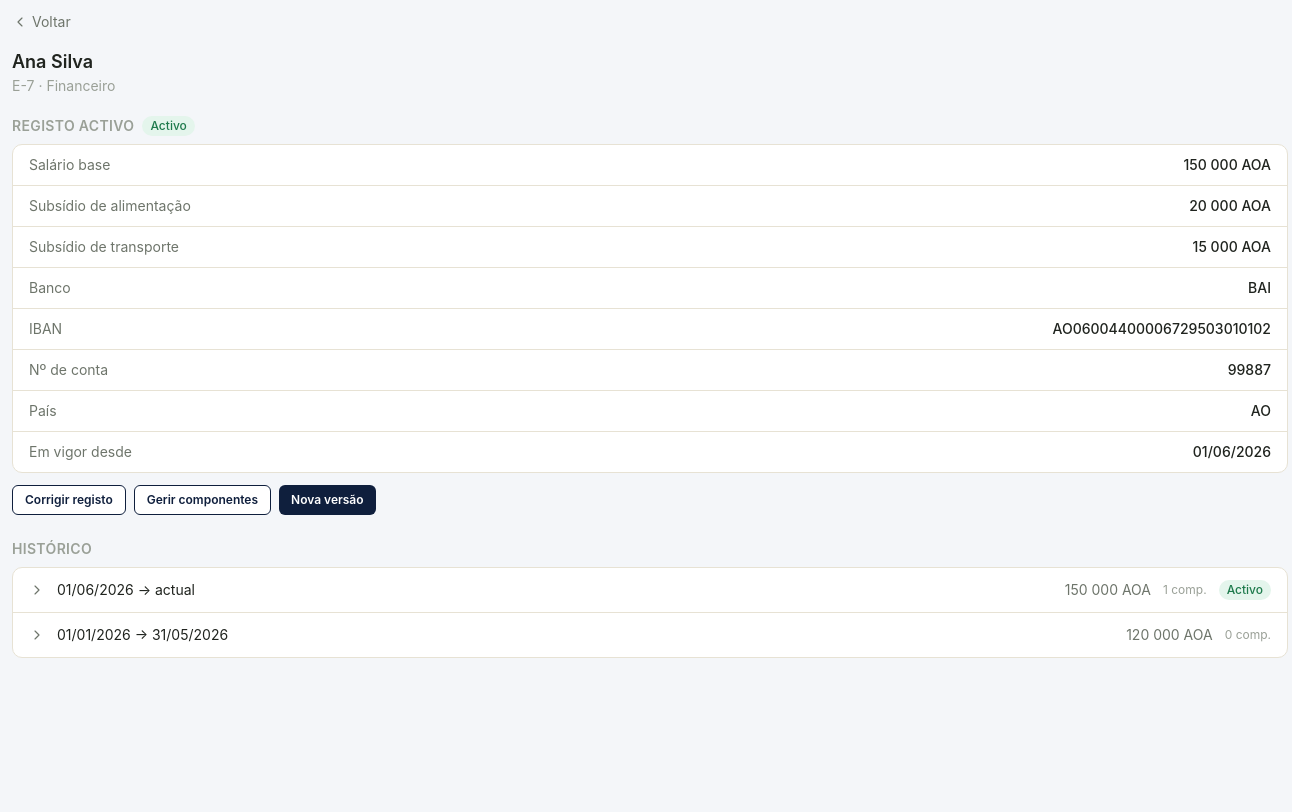
CompensationDetailView › expanding a timeline row reveals its components
The image size is (1292, 812).
Step 1. Click the button named "ver componentes" in the row of "actual" → (37, 590), box [29,582,45,598]
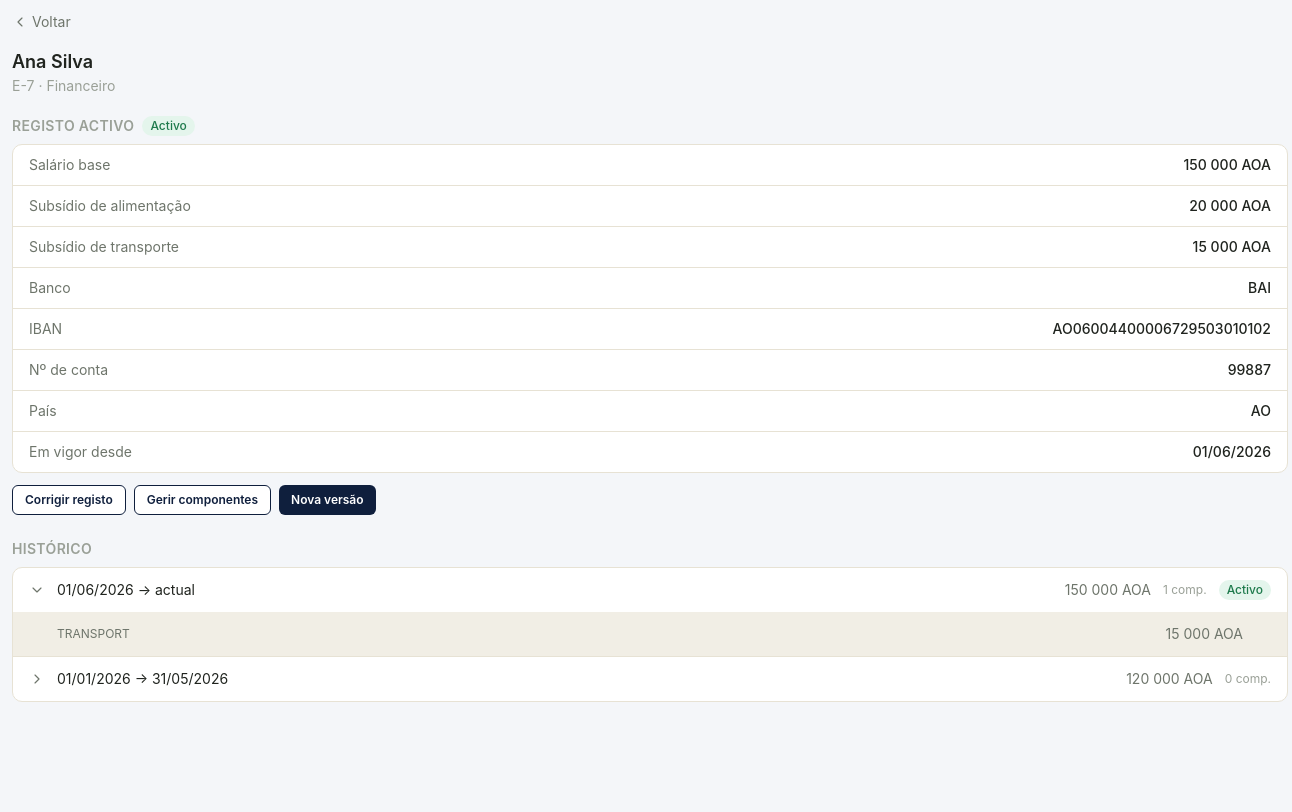
Expected: the text "TRANSPORT" is shown, [57,626,130,642]
